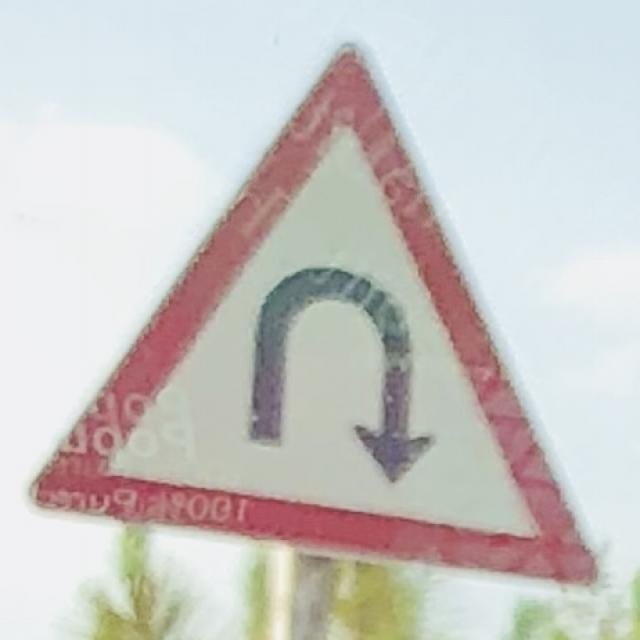u turn: (35, 52, 601, 590)
